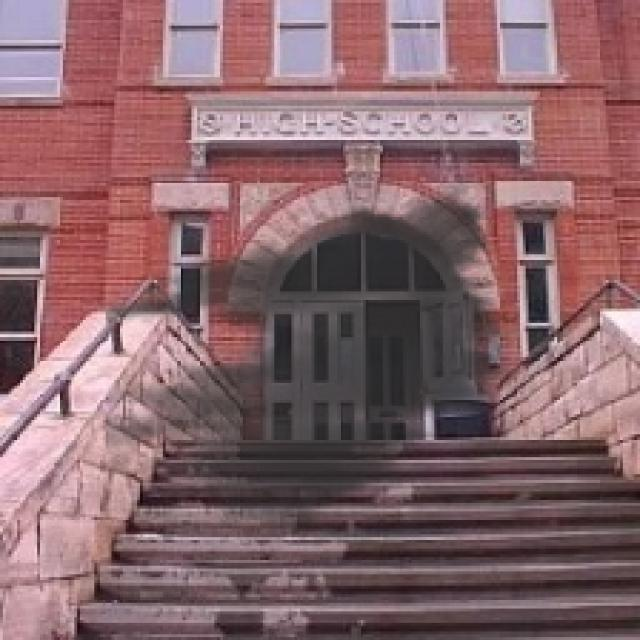Smoke: (106, 177, 526, 546)
